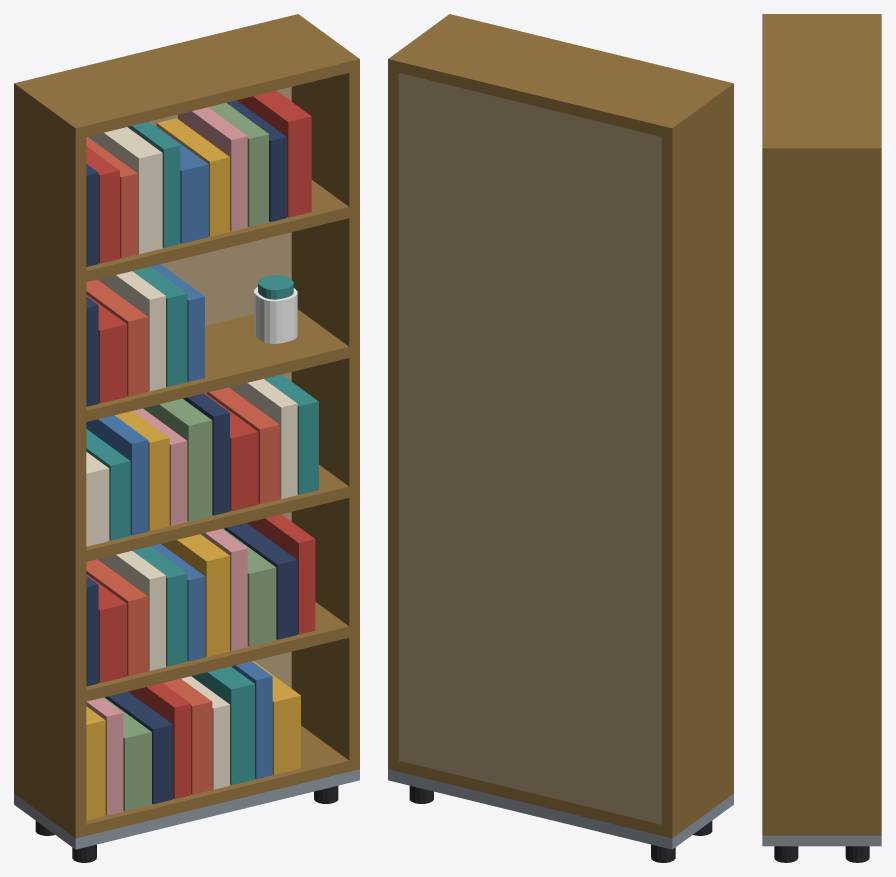
The model's file is sliding_bookcase.glb.
3 views of the same model, side by side, from view 1: azimuth 30°, elevation 25°; view 2: azimuth 150°, elevation 25°; view 3: azimuth 270°, elevation 25° (orthographic). The views are drawn at different scales.
Visible parts, largest first — view 1: sliding_bookcase_Body; view 2: sliding_bookcase_Body; view 3: sliding_bookcase_Body.
Part boxes in pixels (<box>): sliding_bookcase_Body: <box>14,14,359,862</box>; sliding_bookcase_Body: <box>388,14,733,862</box>; sliding_bookcase_Body: <box>762,14,881,862</box>.
Size of the model in its own units: 0.8 by 2 by 0.3.
